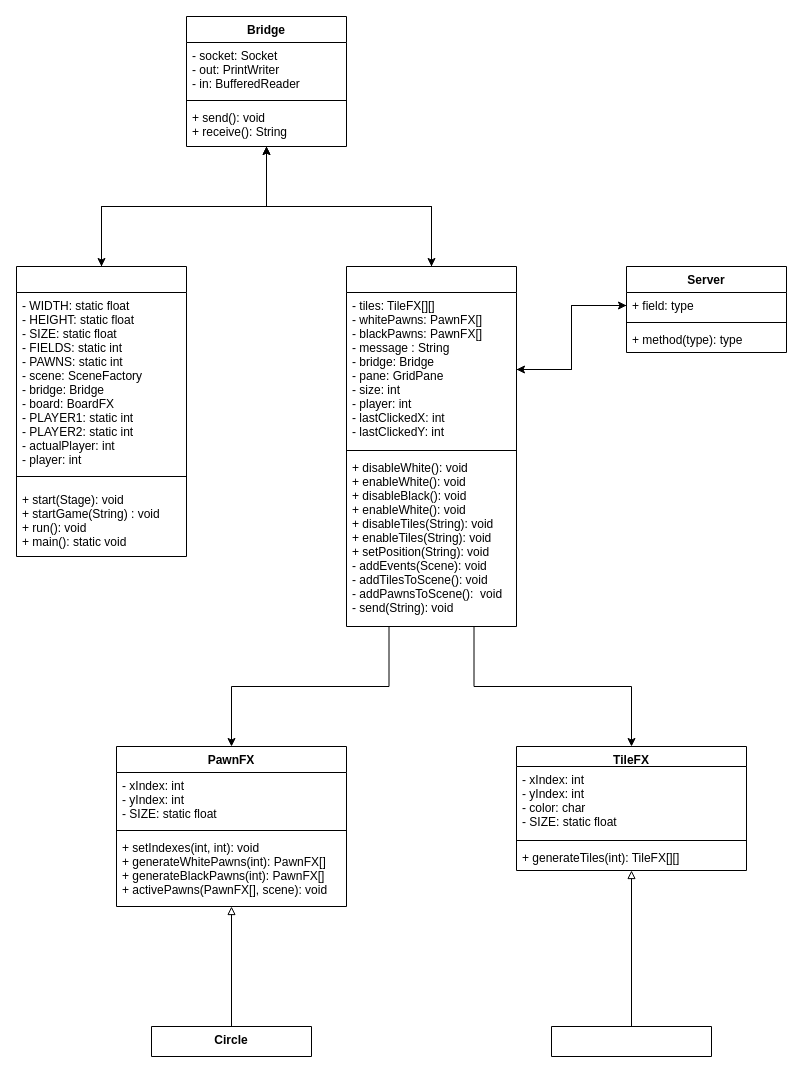
Some shapes in this 803 by 1073 pixel diagram are drawn without their labels. The shapes that lost their labels are listed below. From the top down, each one's box as (x1, y1, x2, y2) in pixels, then its label:
(16, 266, 186, 556): App
(346, 266, 516, 626): BoardFX
(550, 1026, 712, 1056): Ractangle
